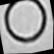no answer: (1, 0, 52, 45)
